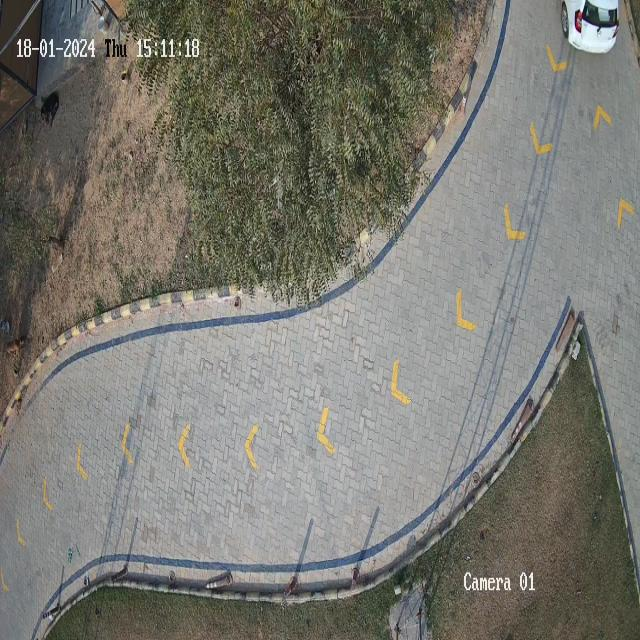car: (562, 0, 619, 53)
